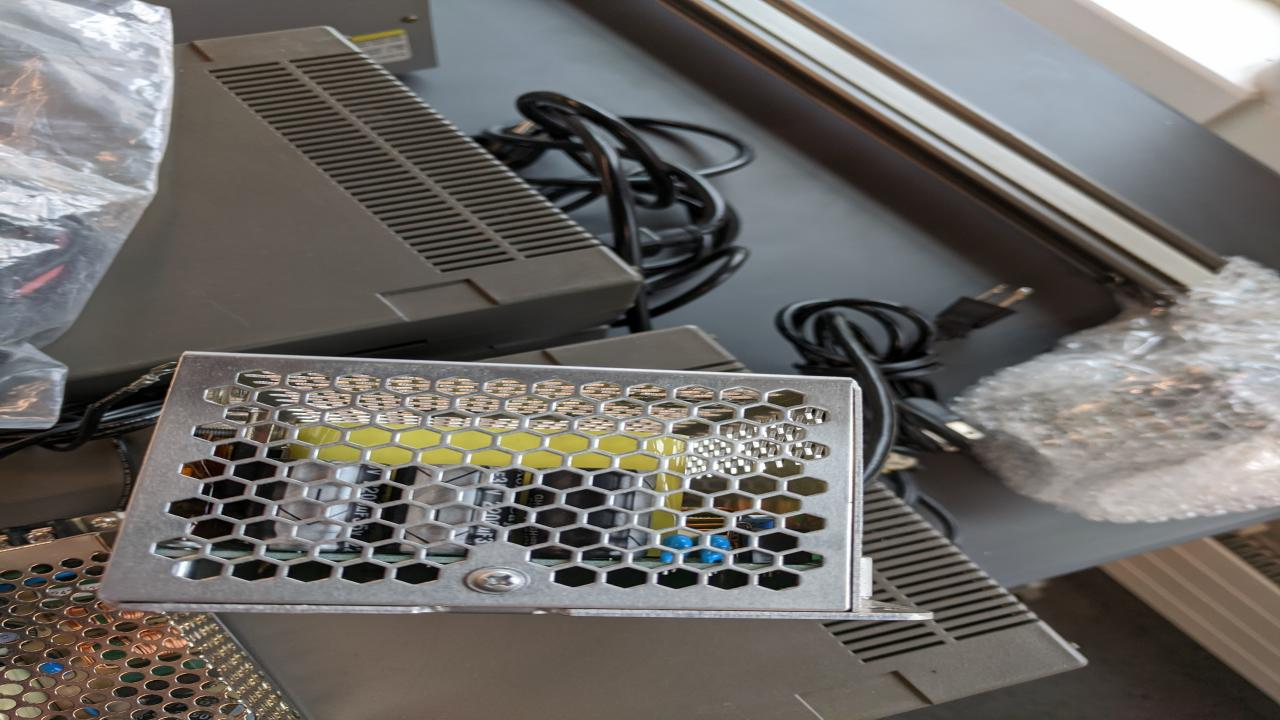CRS: (464, 566, 526, 594)
